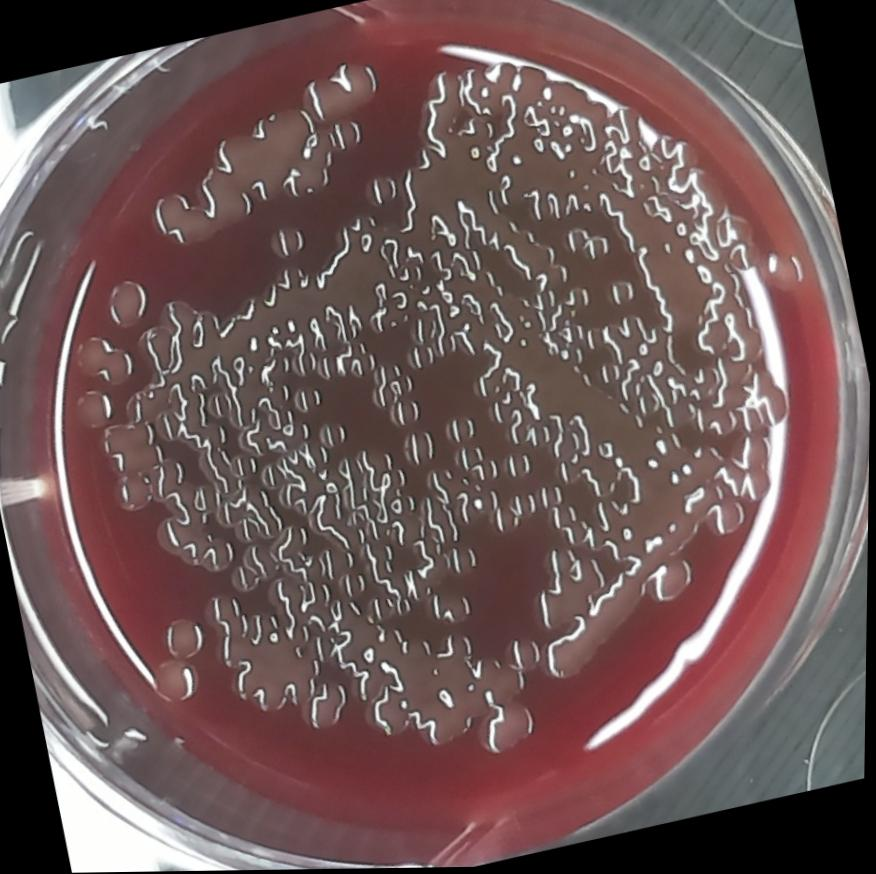vangil: (128, 56, 407, 253), (125, 290, 226, 372), (94, 272, 156, 335), (262, 219, 312, 268)
